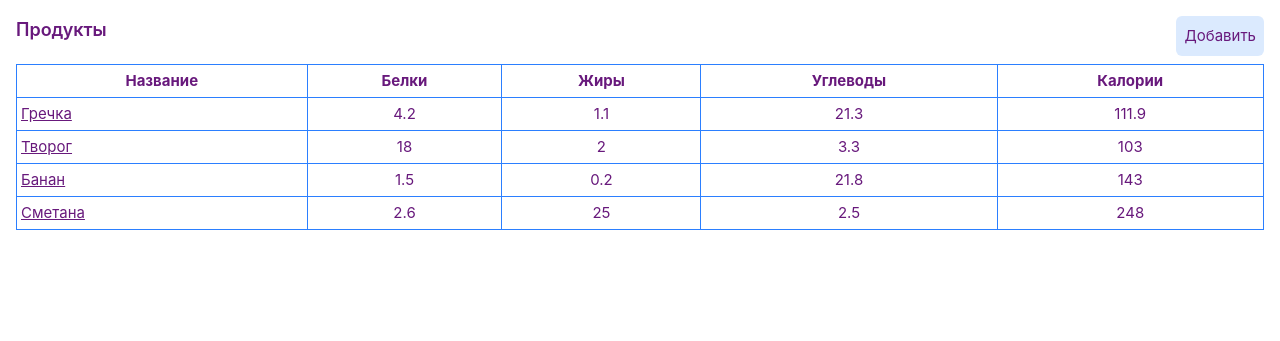
Scenario: ProductList › выбирает продукт для редактирования
This screenshot has width=1280, height=341.
What coordinates should you click on to do the following:
click the button with test id "Гречка"
I would click on:
 (46, 114)
Its box is x1=21 y1=102 x2=72 y2=126.
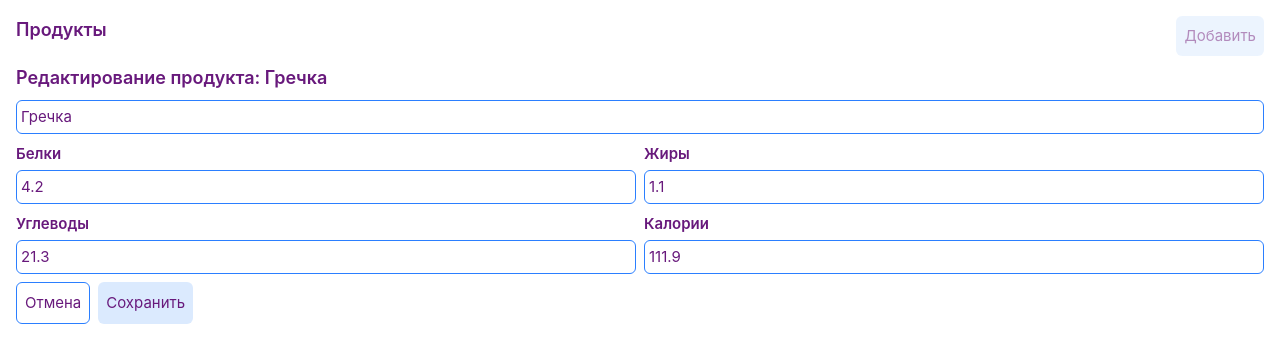
Expected: the text "Редактирование продукта: Гречка" is shown, x1=16 y1=67 x2=327 y2=88
